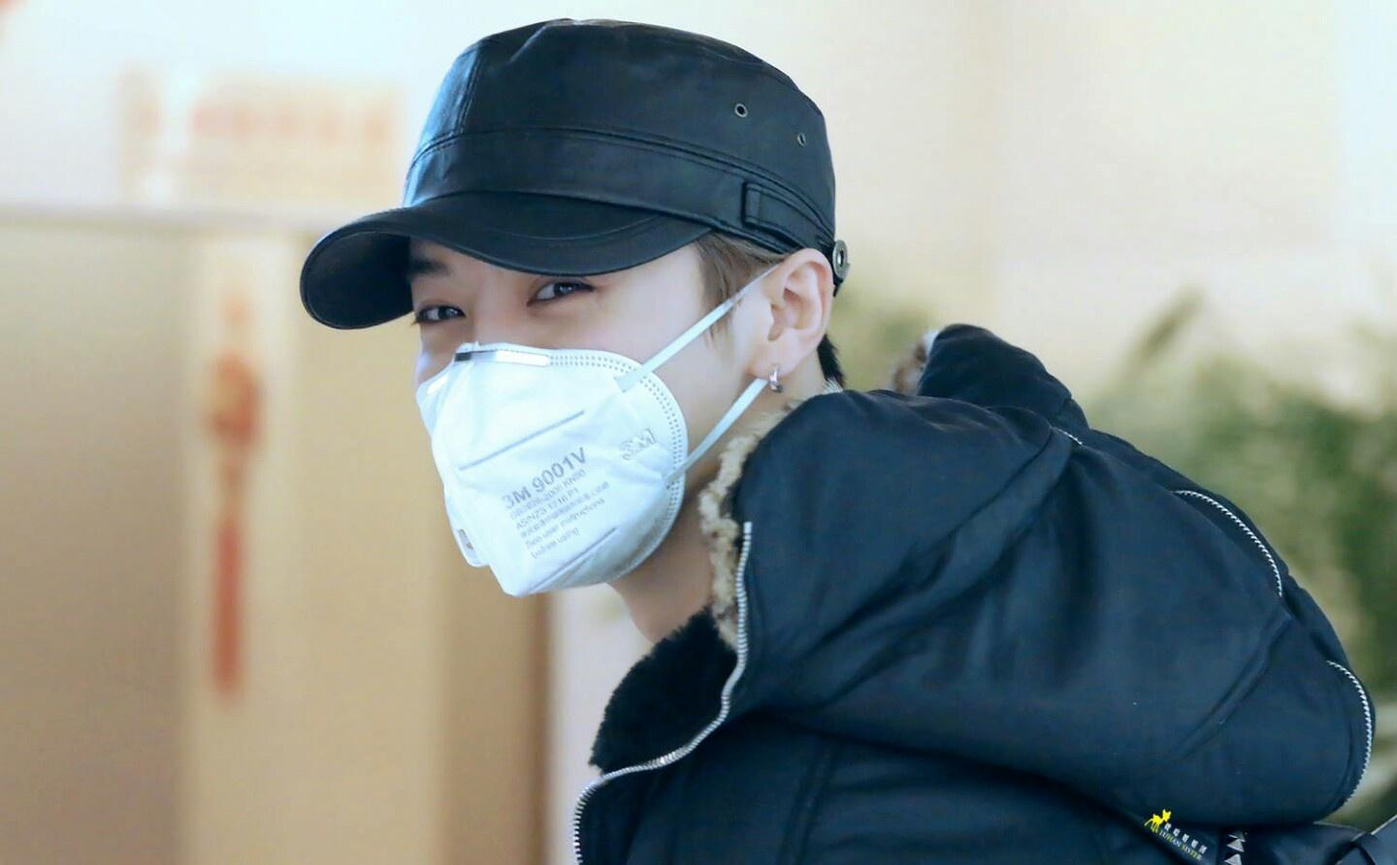OK: (399, 213, 749, 591)
